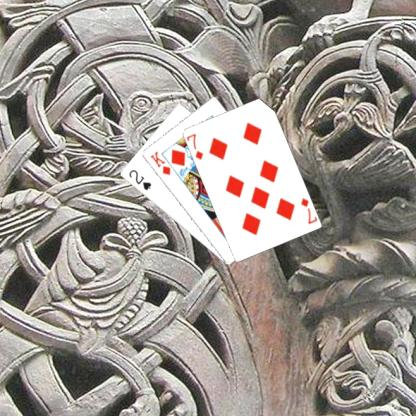2S: (126, 167, 152, 191)
7D: (185, 130, 204, 161), (298, 195, 317, 225)
KD: (147, 148, 172, 176)
